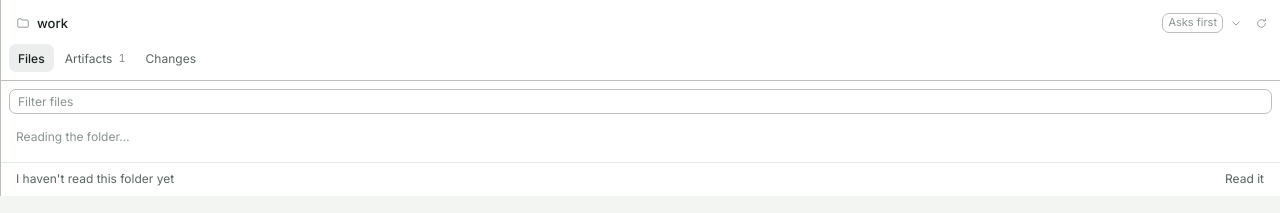
Test: Workbench sub-views › switches sections from its own nav
Click the tab with class "wb-tab" showing "Artifacts 1" at (95, 58), box [56, 44, 135, 72]
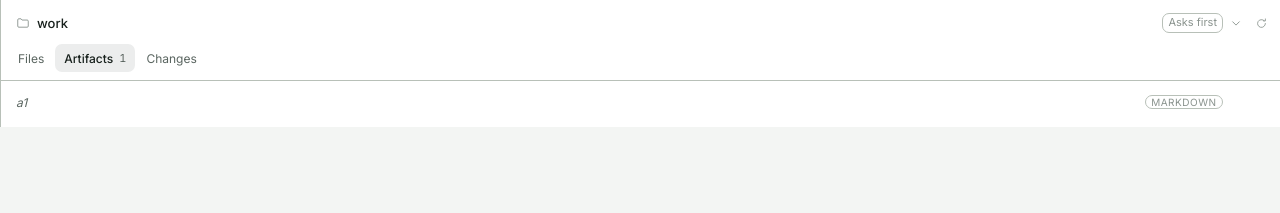
Expected: the list with class "wb-artifacts" is shown, [16, 94, 1222, 110]
